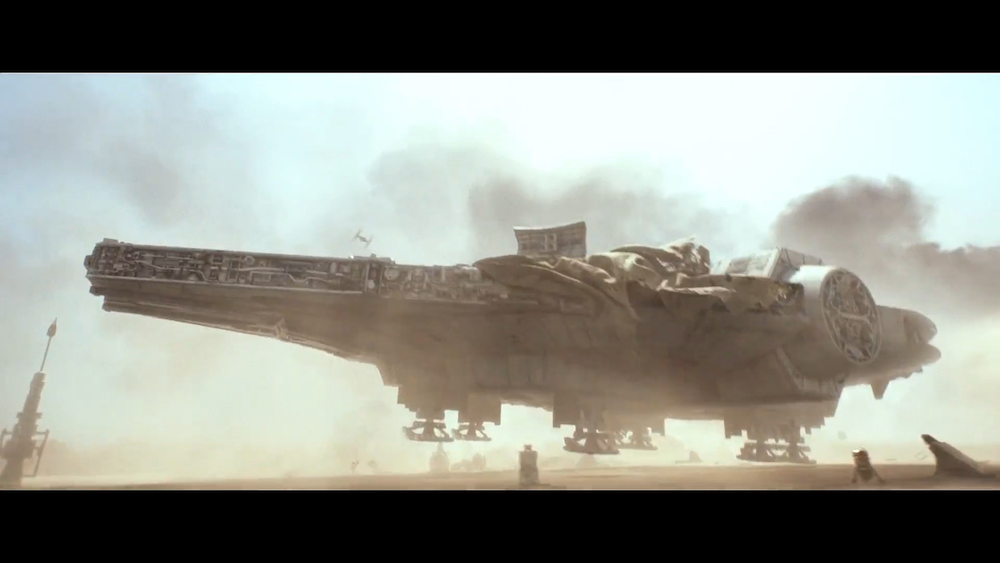Millennium Falcon: (87, 225, 942, 432)
Tie Fighter: (351, 228, 374, 250)
